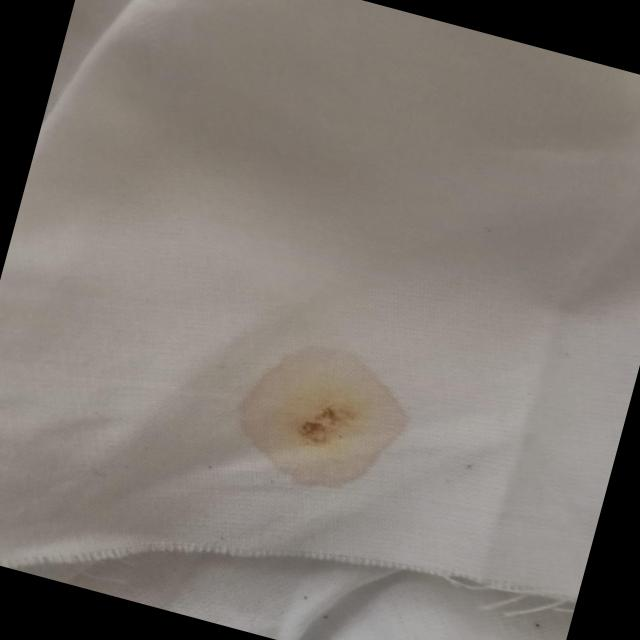stain: (212, 318, 433, 512)
